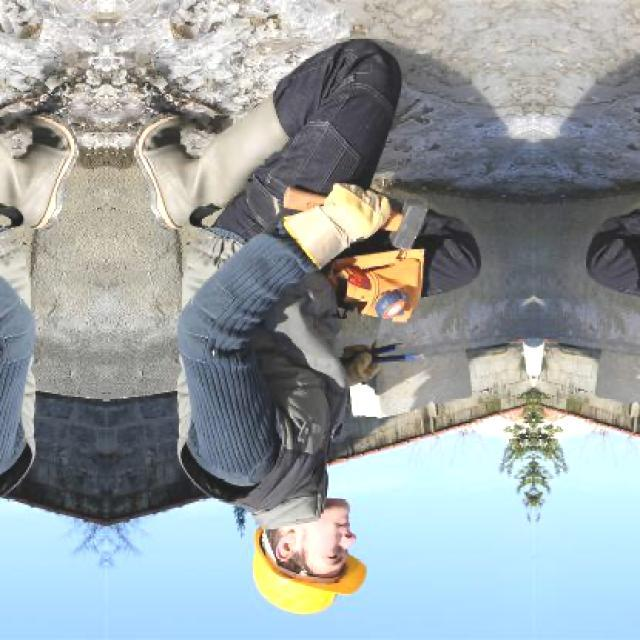safetyhelmet: (246, 503, 368, 616)
